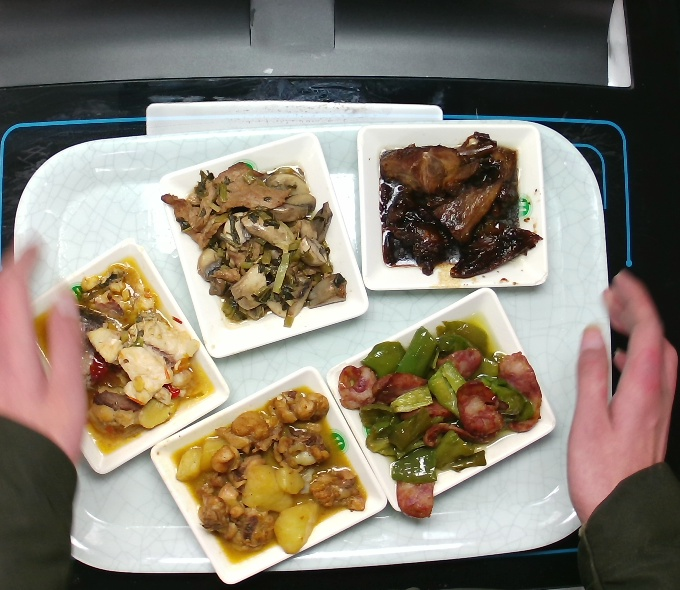wcq-JiangZhiYa: (373, 131, 544, 282)
wcq-MoGuRouPian: (154, 157, 349, 332)
wcq-QingJiaoXiangChang: (333, 316, 544, 521)
wcq-SuanCaiYu: (71, 243, 212, 454)
wcq-TuDouJiKuai: (169, 383, 365, 561)
